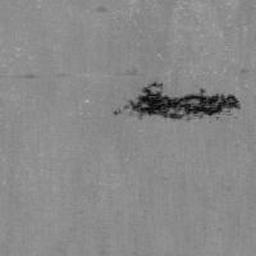Inclusion: (111, 82, 243, 123), (10, 73, 38, 82), (55, 72, 69, 78)
